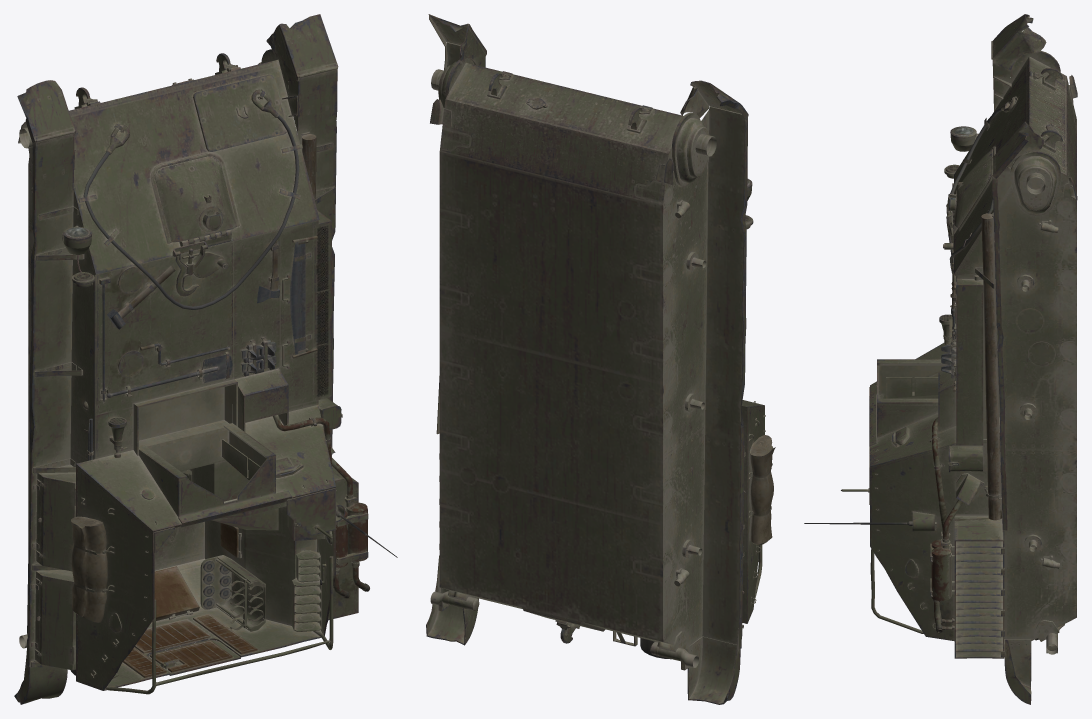
File: Hull.glb
3 views of the same model, side by side, from view 1: azimuth 30°, elevation 25°; view 2: azimuth 150°, elevation 25°; view 3: azimuth 270°, elevation 25° (orthographic). The views are drawn at different scales.
Visible parts, largest first — view 1: set_0_group_0; view 2: set_0_group_0; view 3: set_0_group_0.
Part boxes in pixels (x1,y1,x2,y2): set_0_group_0: (14,14,397,704); set_0_group_0: (426,14,775,704); set_0_group_0: (804,14,1077,704).
Bounding box in the file's own units: 2.74 × 5.34 × 2.34.
1 material, 1 textured.
